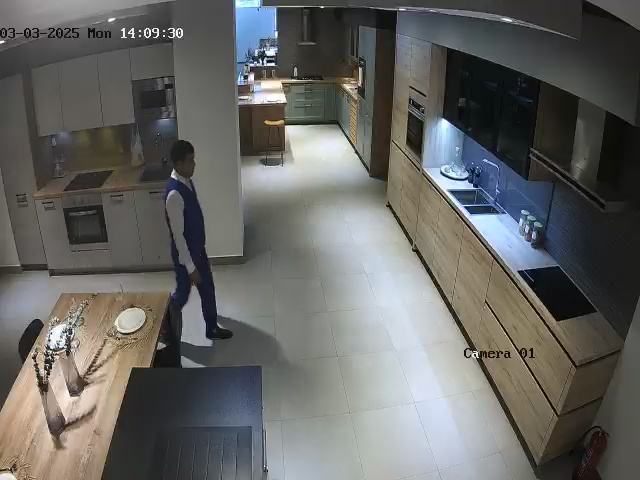employee: (163, 139, 234, 346)
